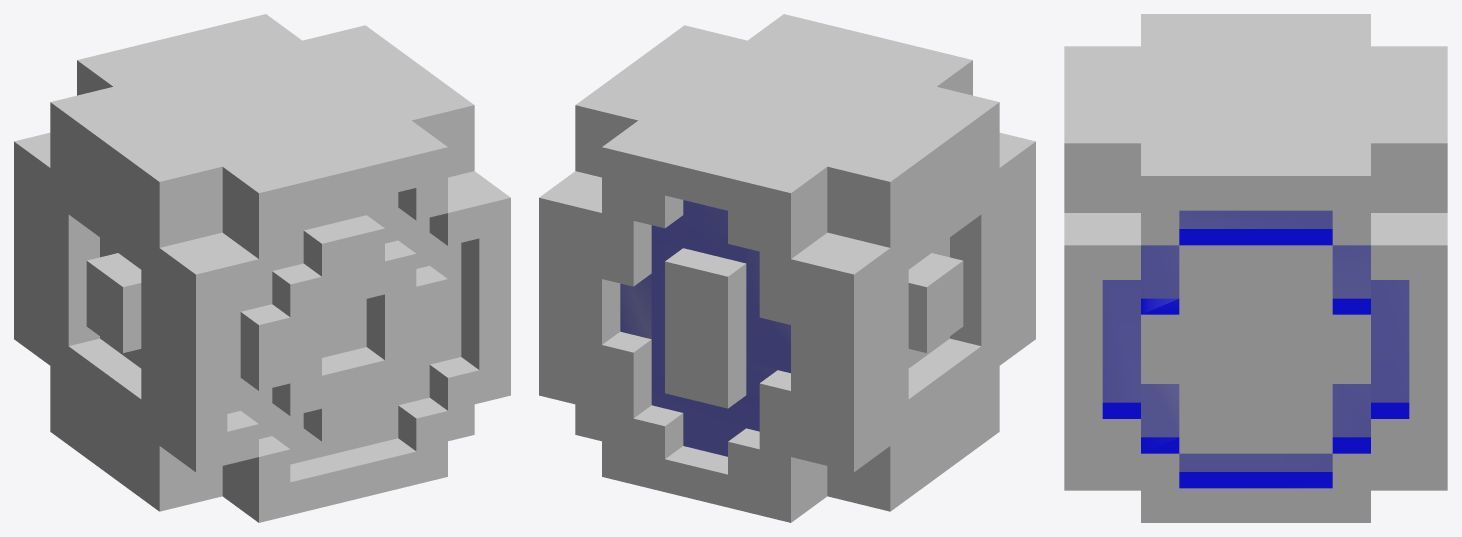
Rendered from Tile_Puzzle_5.fbx.
The picture shows the model from 3 angles, left to right: view 1: azimuth 30°, elevation 25°; view 2: azimuth 150°, elevation 25°; view 3: azimuth 270°, elevation 25°; orthographic projection. The views are drawn at different scales.
Visible parts, largest first — view 1: Tile_Puzzle_5; view 2: Tile_Puzzle_5; view 3: Tile_Puzzle_5.
Part boxes in pixels (x1,y1,x2,y2): Tile_Puzzle_5: (14, 14, 510, 522); Tile_Puzzle_5: (539, 14, 1035, 522); Tile_Puzzle_5: (1064, 14, 1447, 522).
Bounding box in the file's own units: 200 × 200 × 200.
